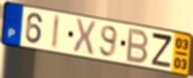6: (25, 12, 44, 46)
9: (98, 25, 119, 58)
B: (125, 27, 151, 65)
I: (50, 13, 61, 51)
X: (72, 16, 97, 56)
Z: (151, 31, 174, 70)
